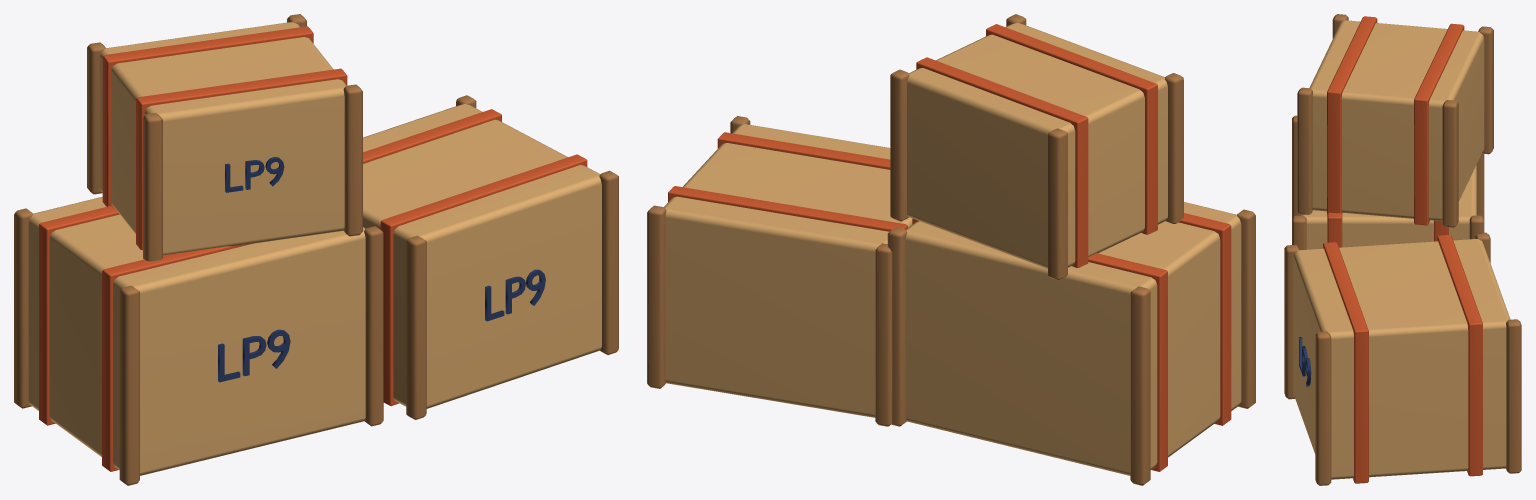
Rendered from dune_crates.glb.
The picture shows the model from 3 angles, left to right: view 1: azimuth 30°, elevation 25°; view 2: azimuth 150°, elevation 25°; view 3: azimuth 270°, elevation 25°; orthographic projection. The views are drawn at different scales.
Parts seen in each view (by area): view 1: Crates; view 2: Crates; view 3: Crates.
Part boxes in pixels (box(x1,y1,x2,y2)): Crates: box(14, 14, 618, 485); Crates: box(647, 14, 1255, 485); Crates: box(1284, 14, 1521, 485).
Bounding box in the file's own units: 3.34 × 2.14 × 1.6.
